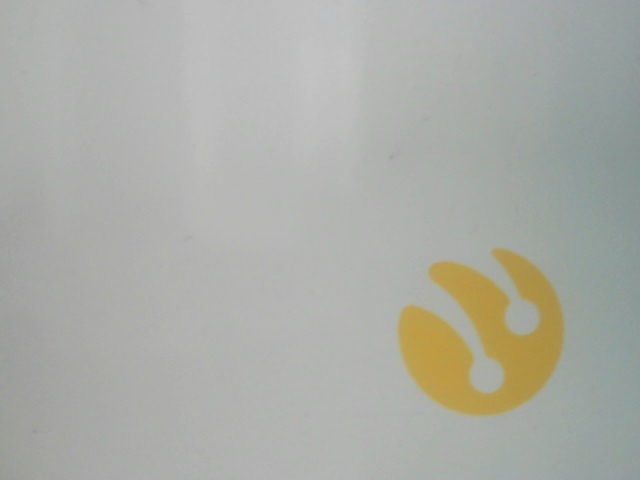AV_H3600Yellow: (379, 243, 575, 418)
